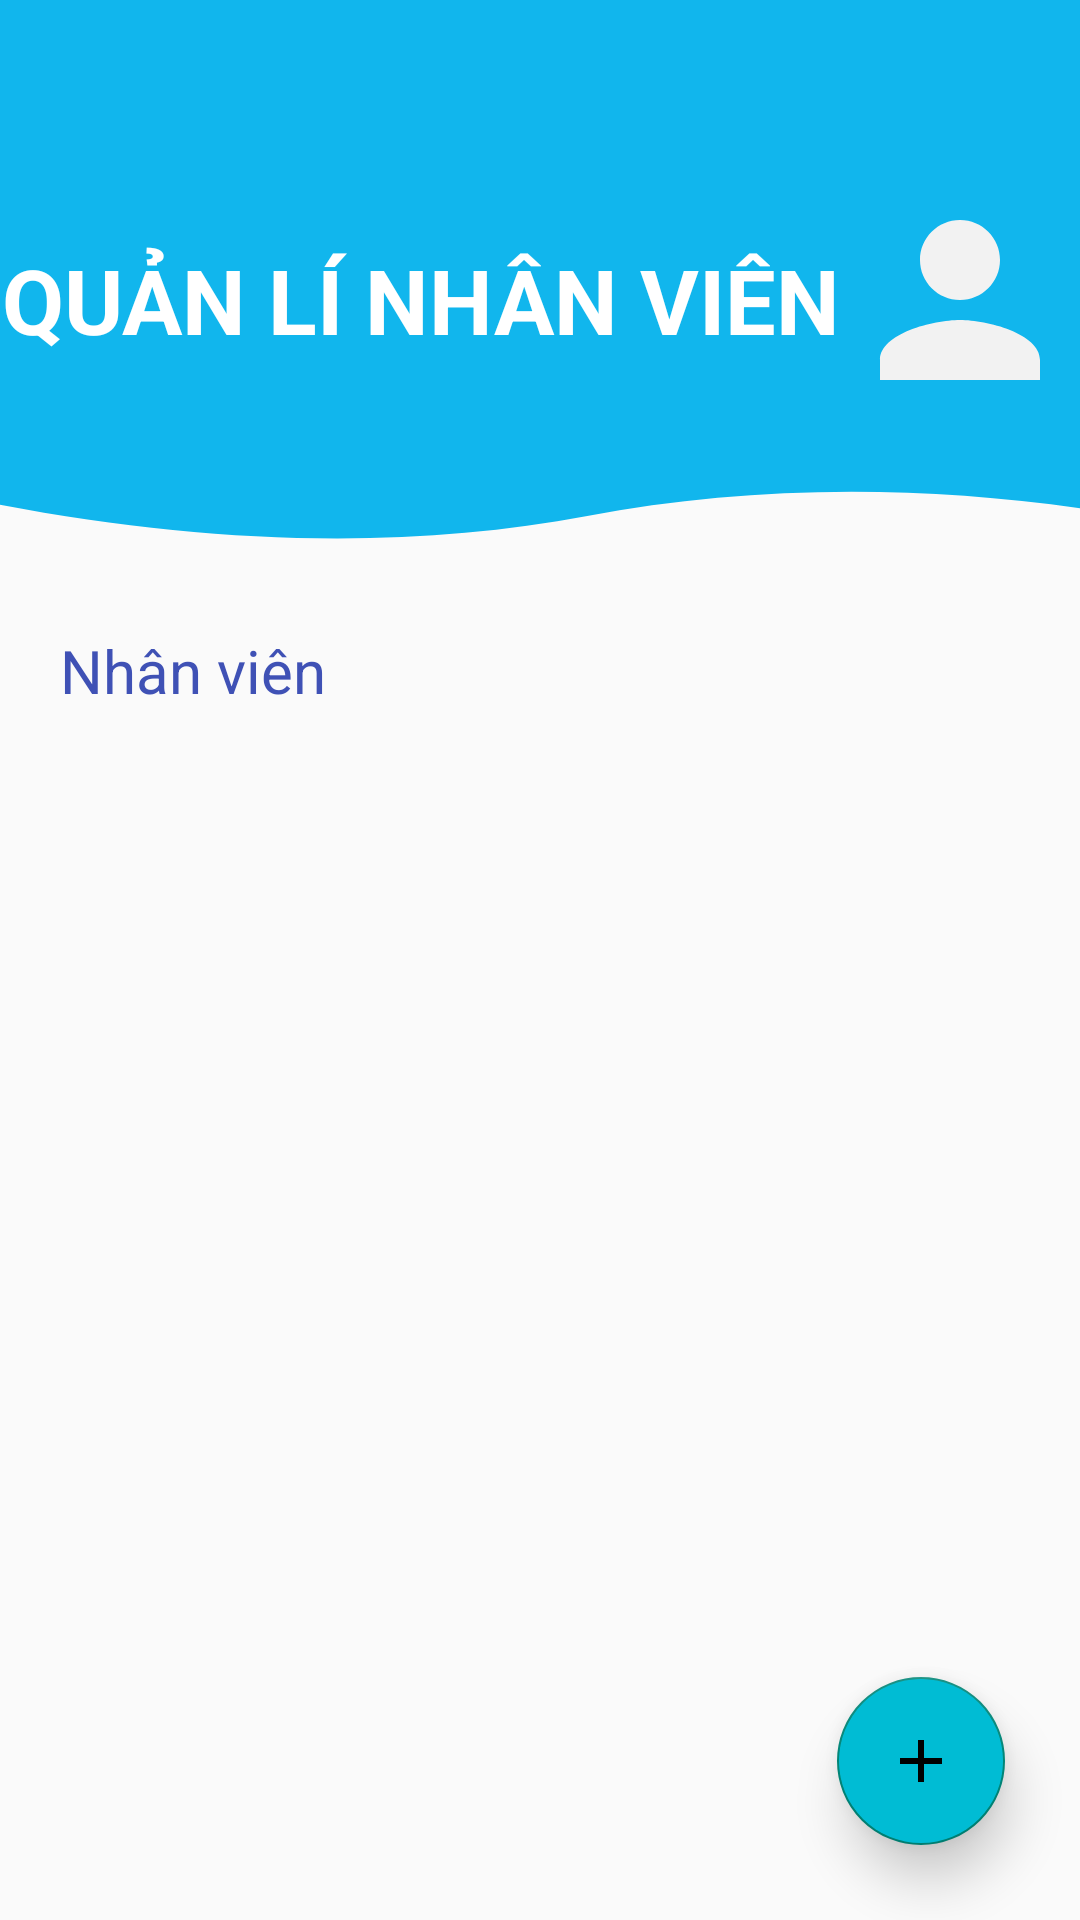

Where icons sit on this 1080x1920 app screen, as bbox=(x1, y1, x2, y2):
add: bbox=(837, 1677, 1005, 1845)
